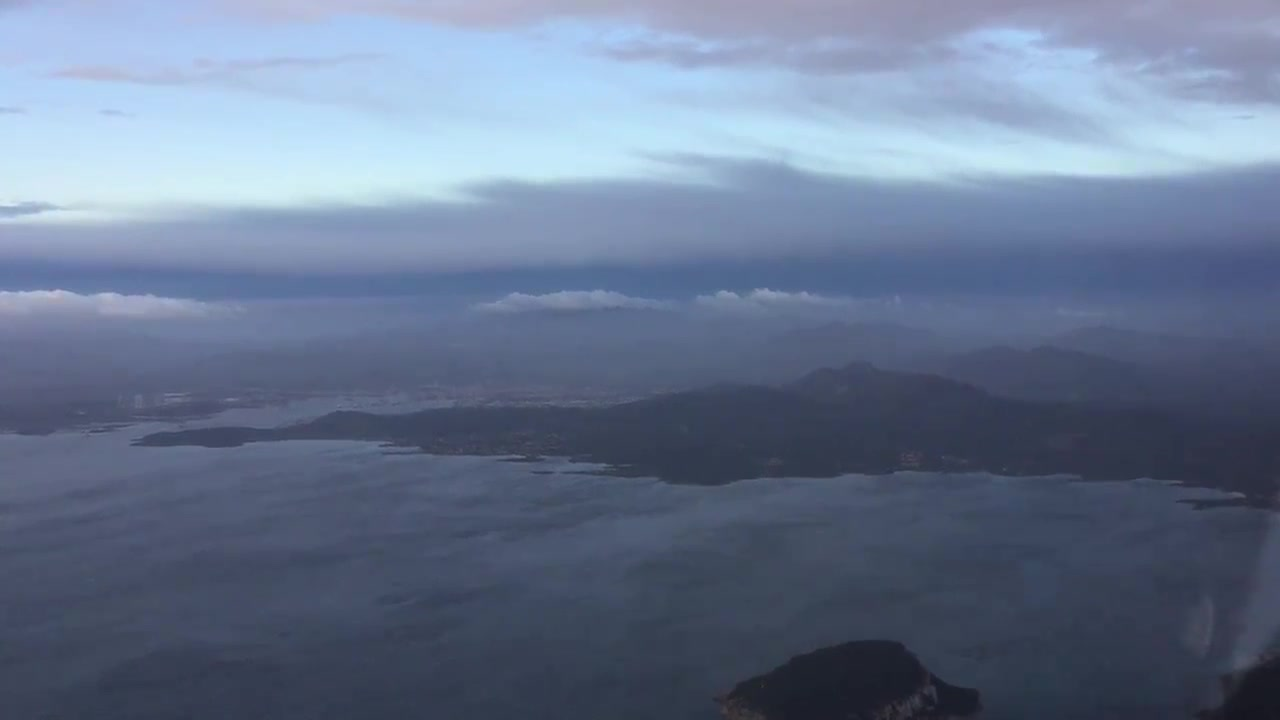runway: (133, 394, 142, 411)
